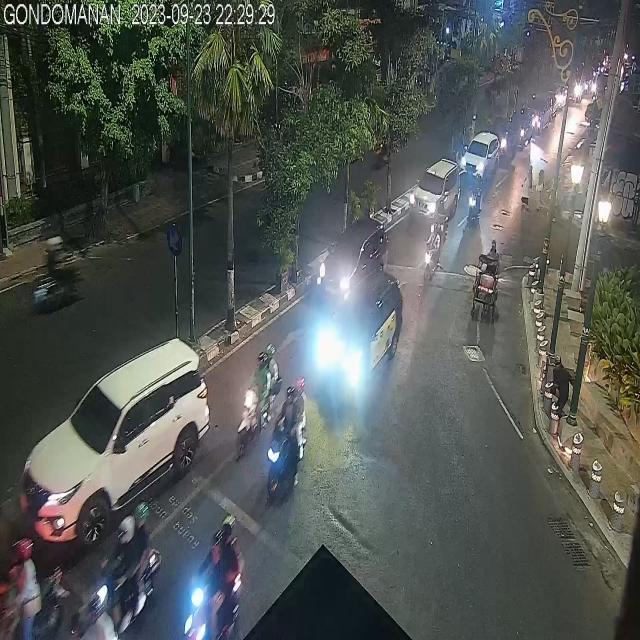car: (18, 336, 208, 548), (322, 272, 406, 392), (320, 221, 393, 296), (409, 156, 464, 224), (460, 130, 501, 185)
motorcycle: (179, 509, 249, 640), (99, 502, 161, 622), (0, 529, 64, 640), (232, 341, 282, 457), (268, 371, 308, 498), (420, 216, 441, 275), (467, 173, 481, 227)
